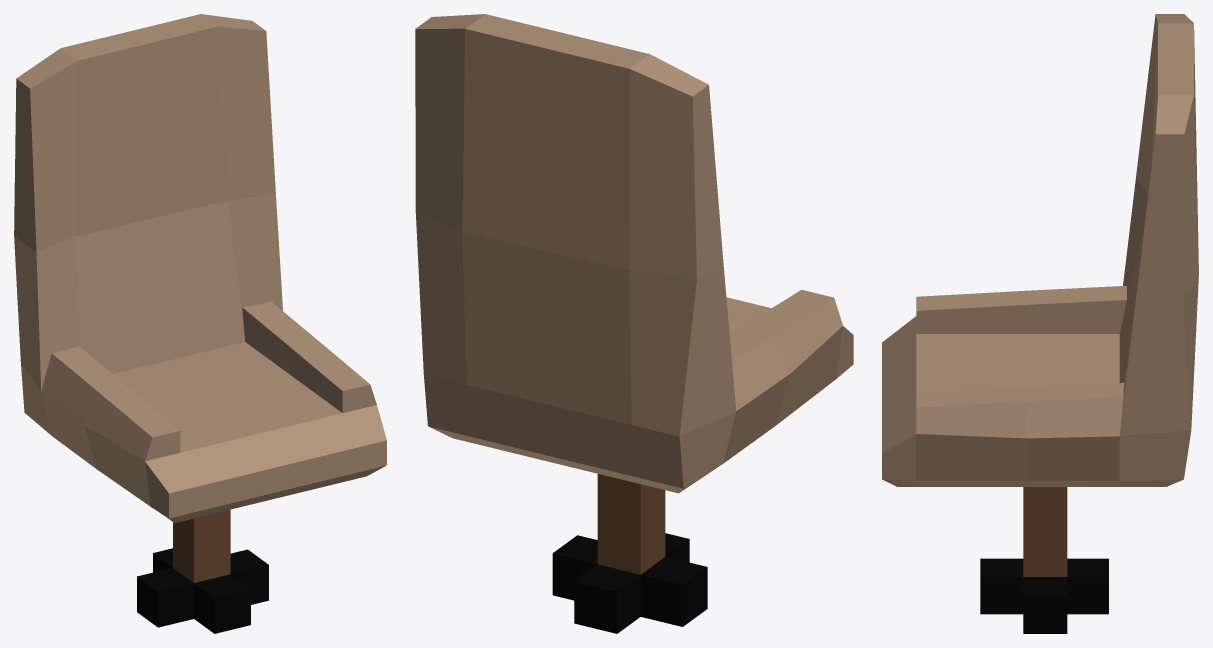
Rendered from bosschair.fbx.
3 views of the same model, side by side, from view 1: azimuth 30°, elevation 25°; view 2: azimuth 150°, elevation 25°; view 3: azimuth 270°, elevation 25° (orthographic). The views are drawn at different scales.
Parts seen in each view (by area): view 1: Cube; view 2: Cube; view 3: Cube.
Boxes of the visible parts, bbox=[...] form: Cube: bbox=[14, 14, 386, 633]; Cube: bbox=[415, 14, 853, 633]; Cube: bbox=[882, 14, 1198, 633].
Bounding box in the file's own units: 269 × 541 × 285.
